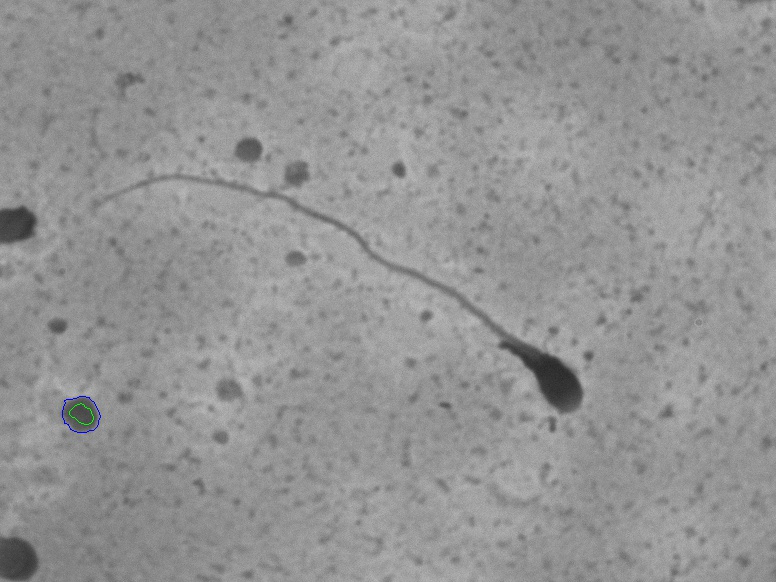Abnormal: (78, 158, 614, 436)
